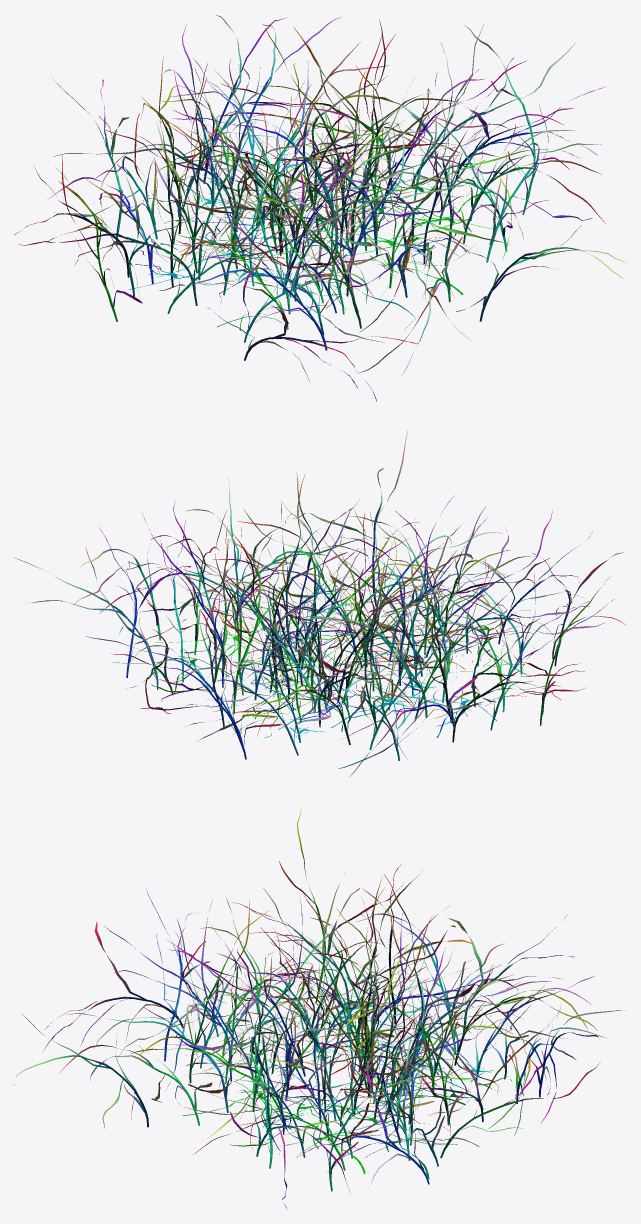
Rendered from Kikuyu_Grass_wiljearqx_Raw_wiljearqx_VarG_LOD0.fbx.
3 views of the same model, one above another, from view 1: azimuth 30°, elevation 25°; view 2: azimuth 150°, elevation 25°; view 3: azimuth 270°, elevation 25° (orthographic). The views are drawn at different scales.
Visible parts, largest first — view 1: _edw7_VarG_High; view 2: _edw7_VarG_High; view 3: _edw7_VarG_High.
Part boxes in pixels (x1,y1,x2,y2): _edw7_VarG_High: [14, 14, 626, 401]; _edw7_VarG_High: [14, 431, 626, 776]; _edw7_VarG_High: [14, 806, 625, 1209].
Size of the model in its own units: 102 by 37.66 by 97.15.
